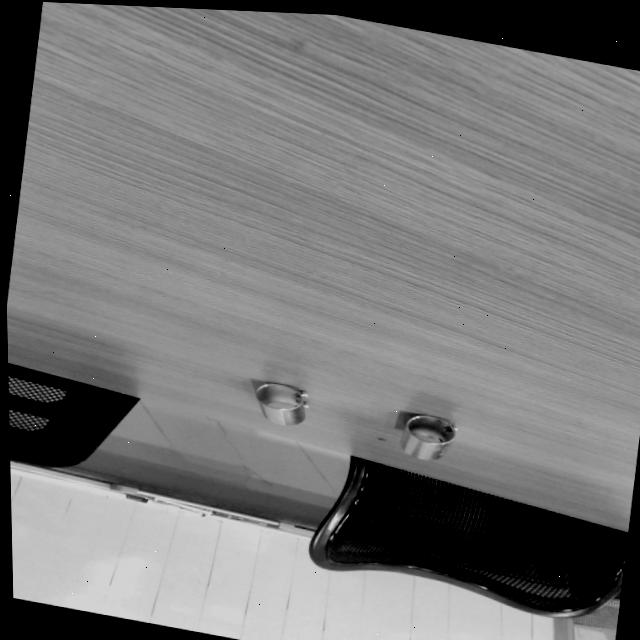Co_Lon: (396, 408, 458, 466)
Co_Nho: (249, 378, 311, 429)
